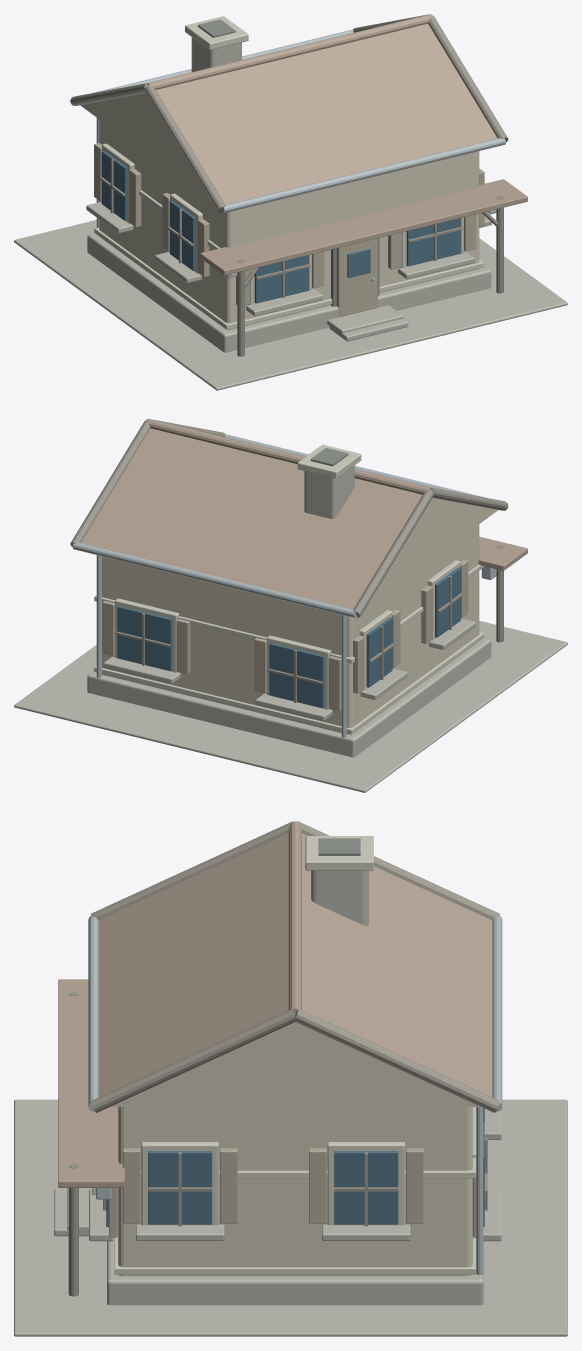
File: district_art_4.glb
3 views of the same model, one above another, from view 1: azimuth 30°, elevation 25°; view 2: azimuth 150°, elevation 25°; view 3: azimuth 270°, elevation 25° (orthographic). The views are drawn at different scales.
Parts seen in each view (by area): view 1: roof, stone, plaster, timber, glass, wood, trim, metal, dark; view 2: roof, stone, plaster, glass, trim, timber, wood, metal; view 3: roof, stone, plaster, timber, trim, glass, wood, metal, dark.
Part boxes in pixels (left/top/right/bottom): roof: left=147, top=14, right=527, bottom=275; stone: left=14, top=37, right=567, bottom=390; plaster: left=80, top=93, right=479, bottom=329; timber: left=70, top=14, right=508, bottom=356; glass: left=101, top=150, right=461, bottom=303; wood: left=94, top=143, right=484, bottom=316; trim: left=94, top=16, right=496, bottom=329; metal: left=93, top=29, right=505, bottom=282; dark: left=198, top=19, right=379, bottom=306; roof: left=81, top=419, right=527, bottom=609; stone: left=14, top=465, right=567, bottom=792; plaster: left=102, top=498, right=497, bottom=734; glass: left=117, top=567, right=460, bottom=708; trim: left=94, top=444, right=496, bottom=734; timber: left=70, top=419, right=508, bottom=702; wood: left=102, top=559, right=468, bottom=711; metal: left=72, top=434, right=496, bottom=738; roof: left=58, top=821, right=492, bottom=1187; stone: left=14, top=870, right=567, bottom=1336; plaster: left=110, top=1022, right=480, bottom=1276; timber: left=68, top=821, right=499, bottom=1296; trim: left=92, top=836, right=476, bottom=1274; glass: left=106, top=1108, right=484, bottom=1226; wood: left=109, top=1148, right=476, bottom=1237; metal: left=88, top=916, right=502, bottom=1274; dark: left=318, top=838, right=360, bottom=855.
Size of the model in its own units: 12.5 by 8.39 by 12.5.
